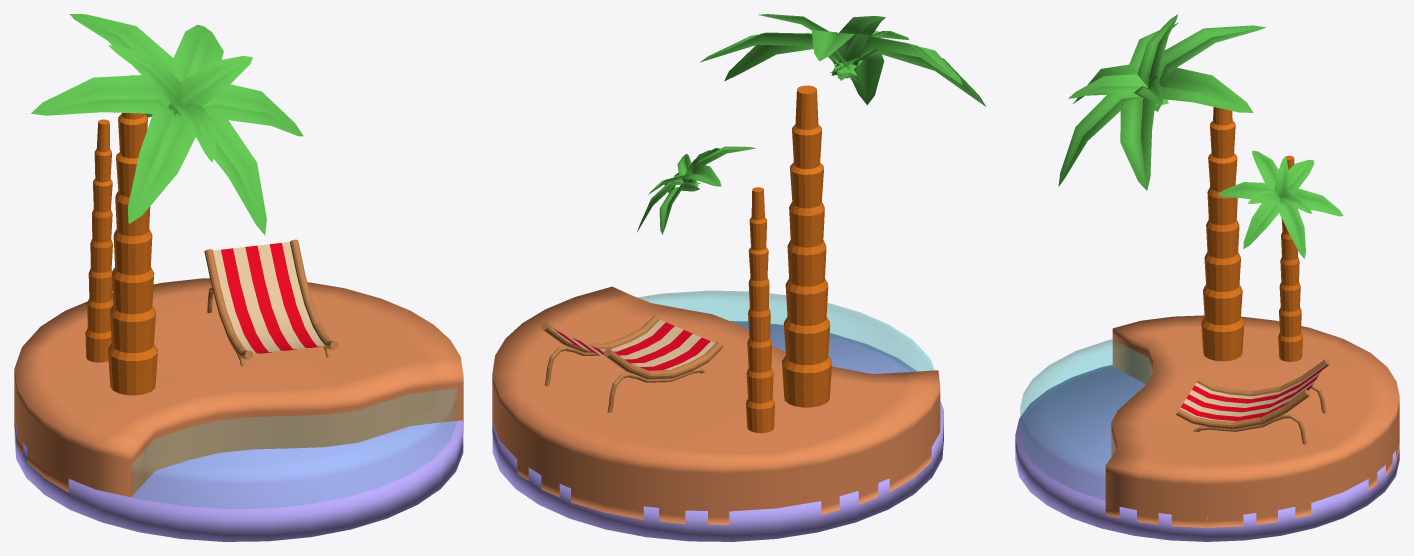
File: Beach.glb
3 views of the same model, side by side, from view 1: azimuth 30°, elevation 25°; view 2: azimuth 150°, elevation 25°; view 3: azimuth 270°, elevation 25° (orthographic). The views are drawn at different scales.
Parts seen in each view (by area): view 1: Roundcube, Circle, Roundcube.001, Cylinder, Vert, Cylinder.002, Plane.003, Plane.004, Plane.002, Plane.001, Vert.001, Plane.005 (+4 smaller); view 2: Roundcube, Circle, Cylinder, Roundcube.001, Cylinder.002, Vert, Vert.001, Plane.004, Plane, Plane.005, Plane.002, Plane.001 (+3 smaller); view 3: Roundcube, Circle, Roundcube.001, Cylinder, Vert, Cylinder.002, Plane.001, Plane, Vert.001, Plane.005, Plane.002, Plane.008 (+10 smaller).
Part boxes in pixels (x1,y1,x2,y2): Roundcube: (14, 278, 463, 497); Circle: (14, 420, 463, 541); Roundcube.001: (131, 389, 456, 508); Cylinder: (108, 75, 157, 395); Vert: (213, 242, 329, 354); Cylinder.002: (85, 119, 113, 362); Plane.003: (127, 106, 195, 223); Plane.004: (31, 75, 174, 115); Plane.002: (173, 111, 266, 235); Plane.001: (202, 84, 303, 136); Vert.001: (204, 239, 338, 359); Plane.005: (69, 14, 181, 110); Roundcube: (492, 286, 940, 524); Circle: (492, 321, 943, 541); Cylinder: (782, 85, 831, 407); Roundcube.001: (638, 290, 934, 373); Cylinder.002: (746, 187, 774, 433); Vert: (548, 320, 715, 370); Vert.001: (541, 315, 722, 379); Plane.004: (831, 33, 962, 84); Plane: (699, 32, 857, 81); Plane.005: (811, 30, 868, 78); Plane.002: (834, 53, 884, 105); Plane.001: (724, 33, 856, 81); Roundcube: (1105, 315, 1399, 527); Circle: (1015, 365, 1399, 541); Roundcube.001: (1020, 339, 1152, 499); Cylinder: (1201, 107, 1244, 361); Vert: (1180, 364, 1325, 421); Cylinder.002: (1278, 155, 1302, 361); Plane.001: (1120, 96, 1155, 190); Plane: (1160, 67, 1253, 112); Vert.001: (1176, 359, 1329, 429); Plane.005: (1155, 25, 1266, 104); Plane.002: (1058, 92, 1142, 186); Plane.008: (1137, 14, 1177, 88).
Size of what is drawn, in the model's own units: 8.64 by 8.85 by 8.
